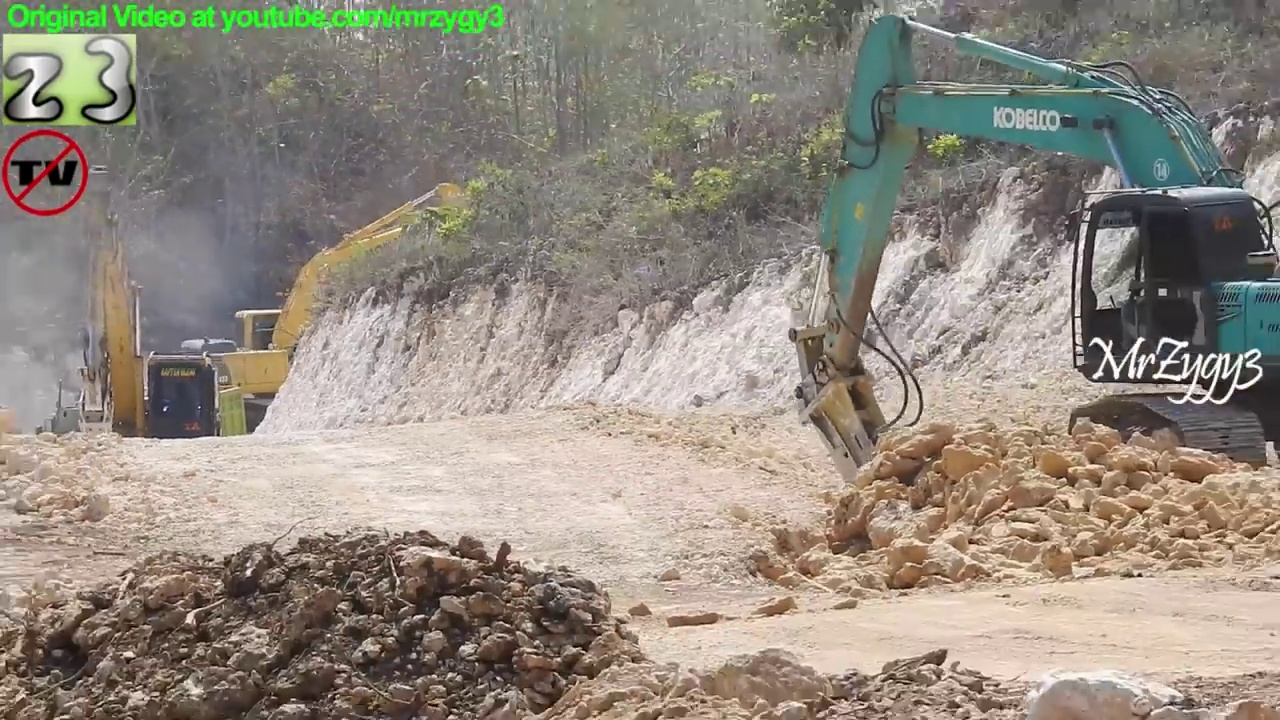excavator: (784, 7, 1280, 511), (161, 174, 498, 457), (68, 151, 227, 485)
truck: (82, 376, 251, 472)
